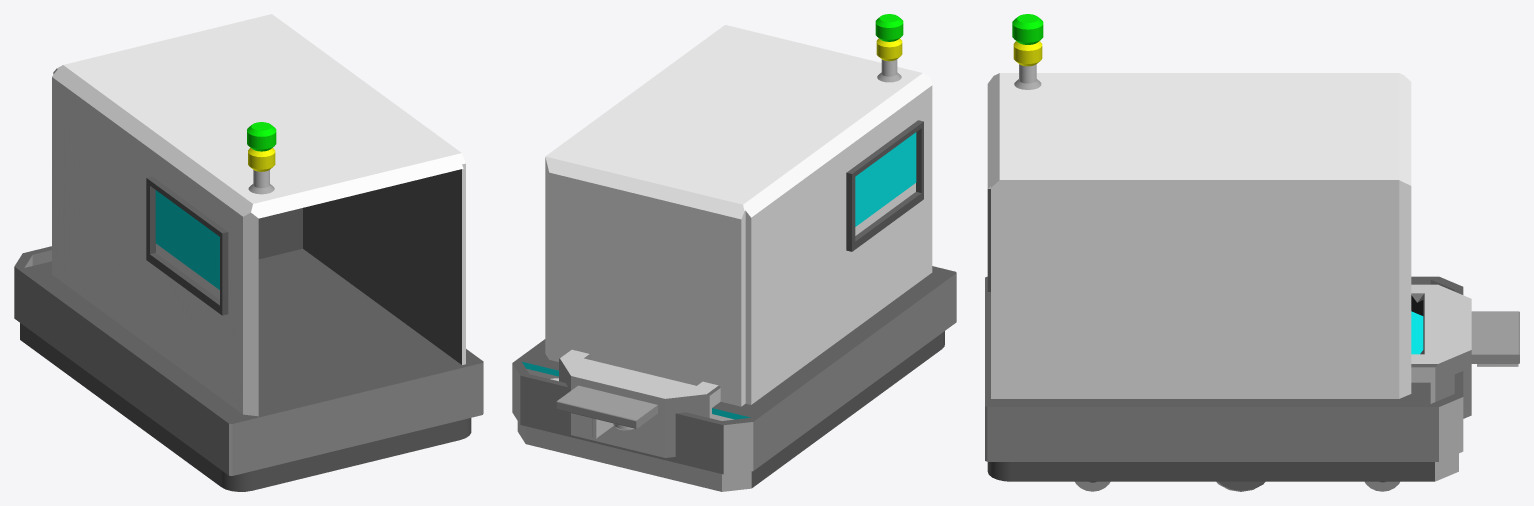
File: agv.FBX
The picture shows the model from 3 angles, left to right: view 1: azimuth 30°, elevation 25°; view 2: azimuth 150°, elevation 25°; view 3: azimuth 270°, elevation 25°; orthographic projection. The views are drawn at different scales.
Parts seen in each view (by area): view 1: *SOL509; view 2: *SOL509; view 3: *SOL509.
Part boxes in pixels (<box>): *SOL509: <box>14,14,483,491</box>; *SOL509: <box>512,14,956,491</box>; *SOL509: <box>985,14,1519,491</box>.
Bounding box in the file's own units: 5.04 × 6.97 × 8.72.
